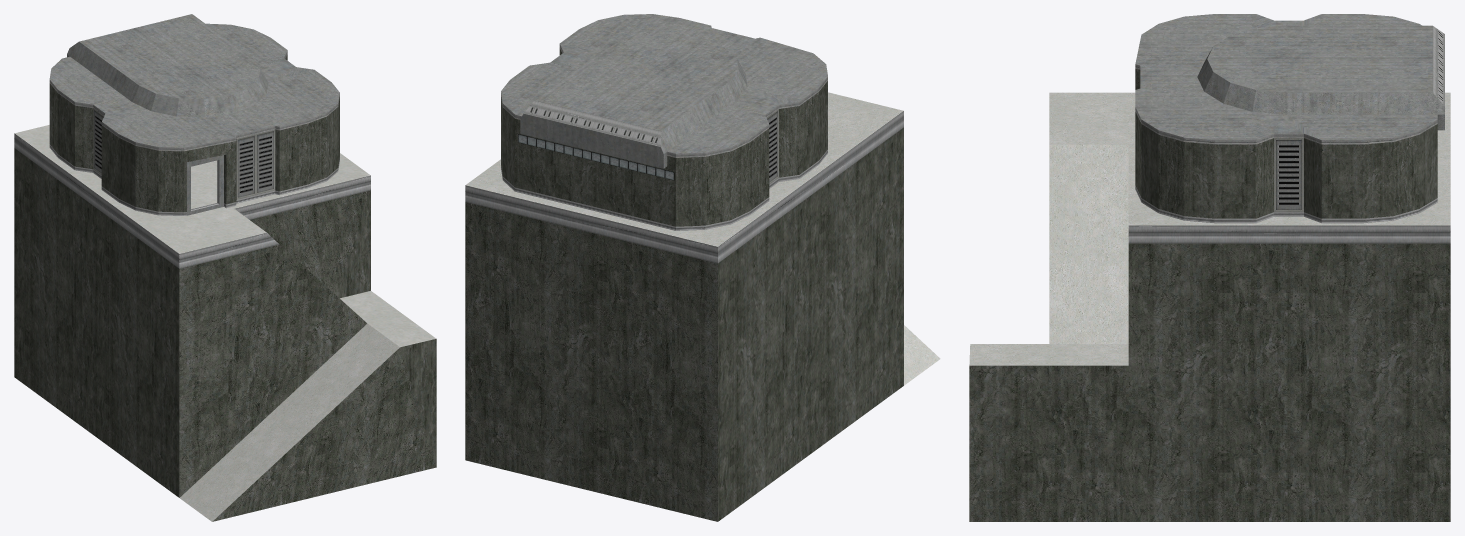
The model's file is ply_corl_house_sm_s02_fp2_r0_mesh_l1.fbx.
The picture shows the model from 3 angles, left to right: view 1: azimuth 30°, elevation 25°; view 2: azimuth 150°, elevation 25°; view 3: azimuth 270°, elevation 25°; orthographic projection. The views are drawn at different scales.
Parts seen in each view (by area): view 1: mesh_node; view 2: mesh_node; view 3: mesh_node.
Part boxes in pixels (x1,y1,x2,y2): mesh_node: (14,14,436,521); mesh_node: (465,14,940,521); mesh_node: (969,14,1450,521).
Size of the model in its own units: 15.87 by 22.12 by 24.27.
